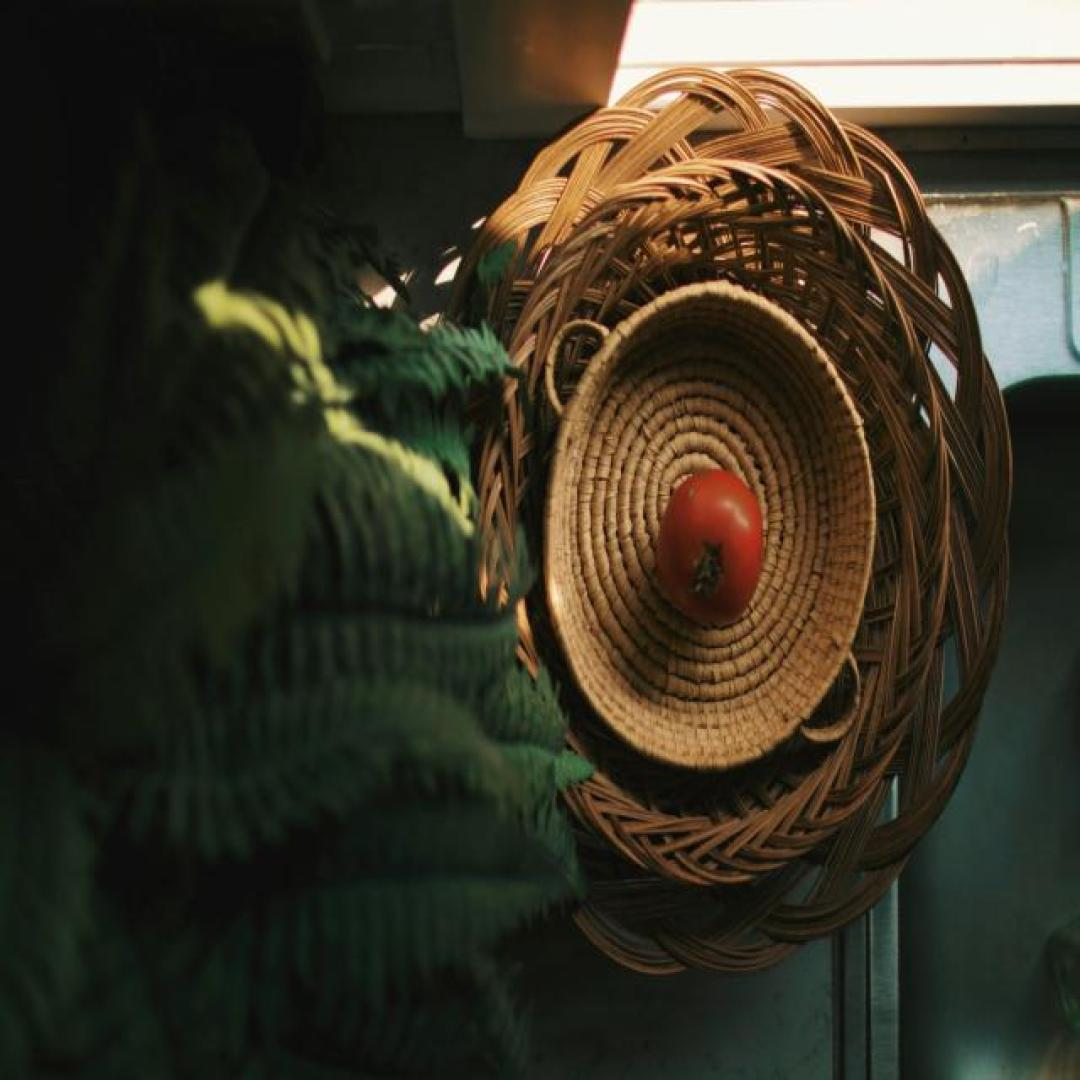matang: (656, 468, 763, 630)
